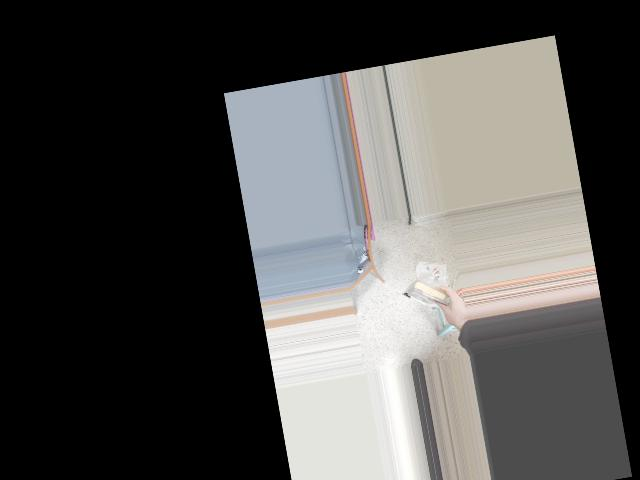cheese: (399, 271, 463, 317)
